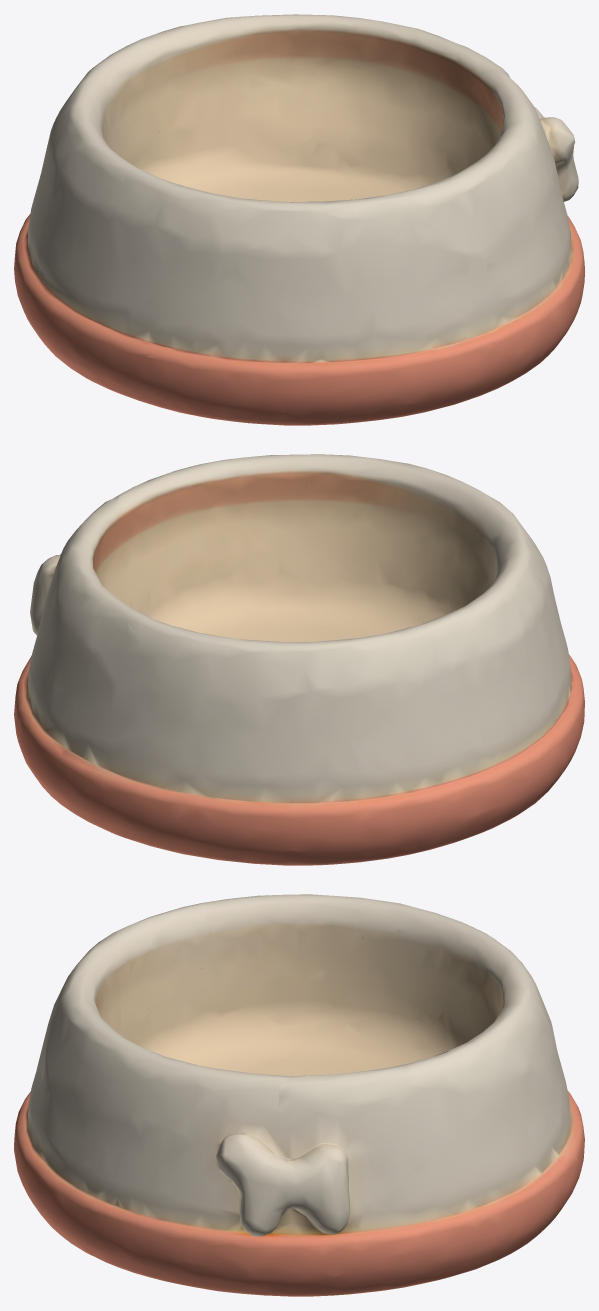
File: dogbowl_h3.glb
3 views of the same model, one above another, from view 1: azimuth 30°, elevation 25°; view 2: azimuth 150°, elevation 25°; view 3: azimuth 270°, elevation 25° (orthographic).
Visible parts, largest first — view 1: tripo_node_4daaf5e1-c226-4bbd-b709-daba6c11af37; view 2: tripo_node_4daaf5e1-c226-4bbd-b709-daba6c11af37; view 3: tripo_node_4daaf5e1-c226-4bbd-b709-daba6c11af37.
Boxes of the visible parts, x1=… form: tripo_node_4daaf5e1-c226-4bbd-b709-daba6c11af37: x1=14, y1=14, x2=584, y2=425; tripo_node_4daaf5e1-c226-4bbd-b709-daba6c11af37: x1=14, y1=454, x2=584, y2=865; tripo_node_4daaf5e1-c226-4bbd-b709-daba6c11af37: x1=14, y1=894, x2=584, y2=1296.
Bounding box in the file's own units: 1 × 0.3887 × 0.9969.
Materials: 1 (1 with a texture image).
